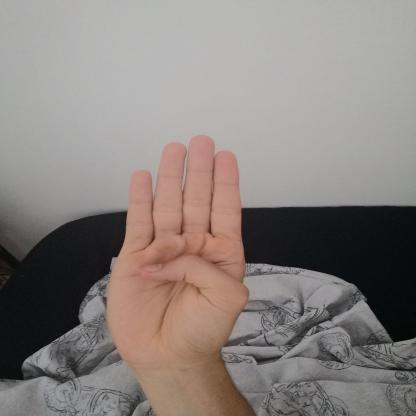KAAF: (86, 122, 262, 388)
